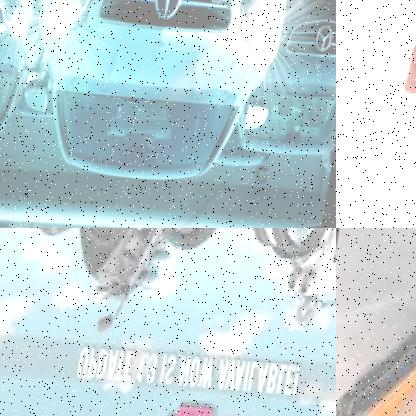bike: (0, 228, 261, 367), (222, 228, 336, 357)
car: (227, 0, 336, 177), (336, 228, 416, 416)
